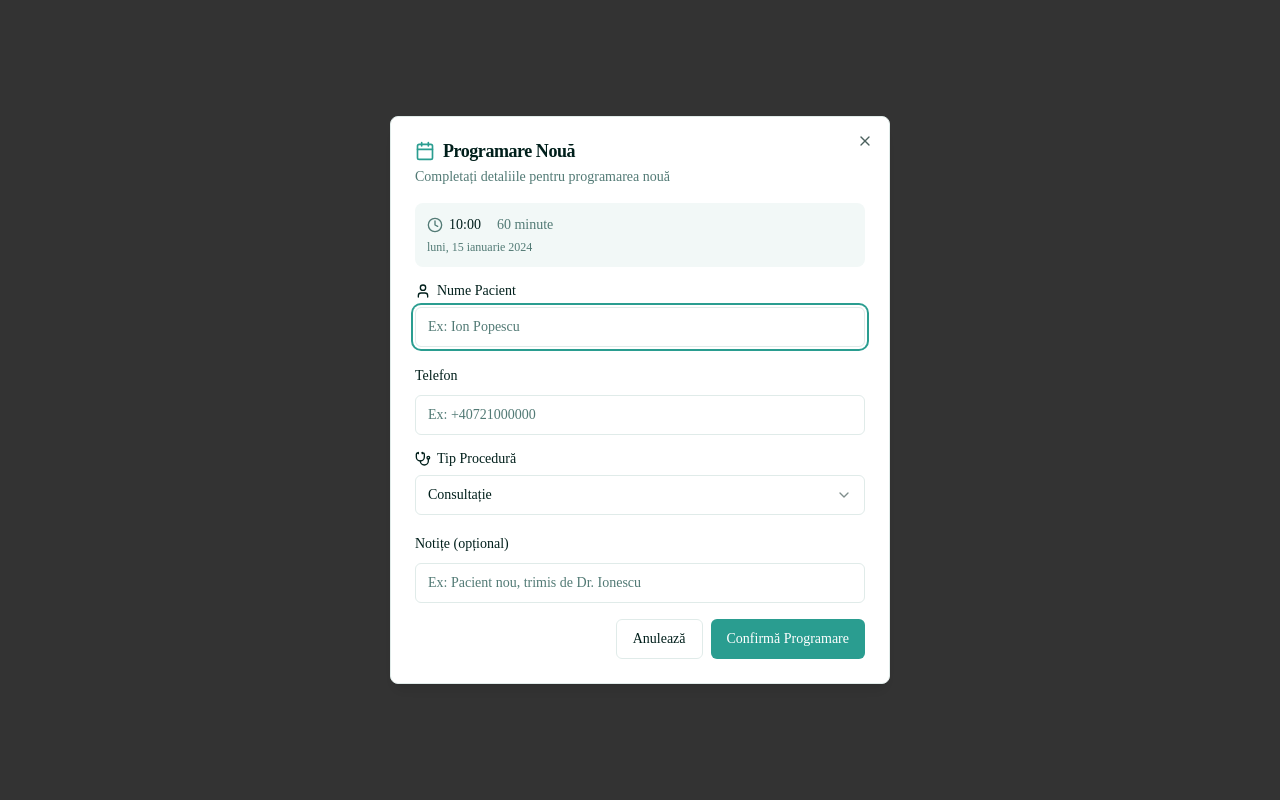
BookingModal › should show validation error when name is empty
In the field labelled "Telefon": (640, 415) x1=415 y1=395 x2=865 y2=435, type "+40123456789"
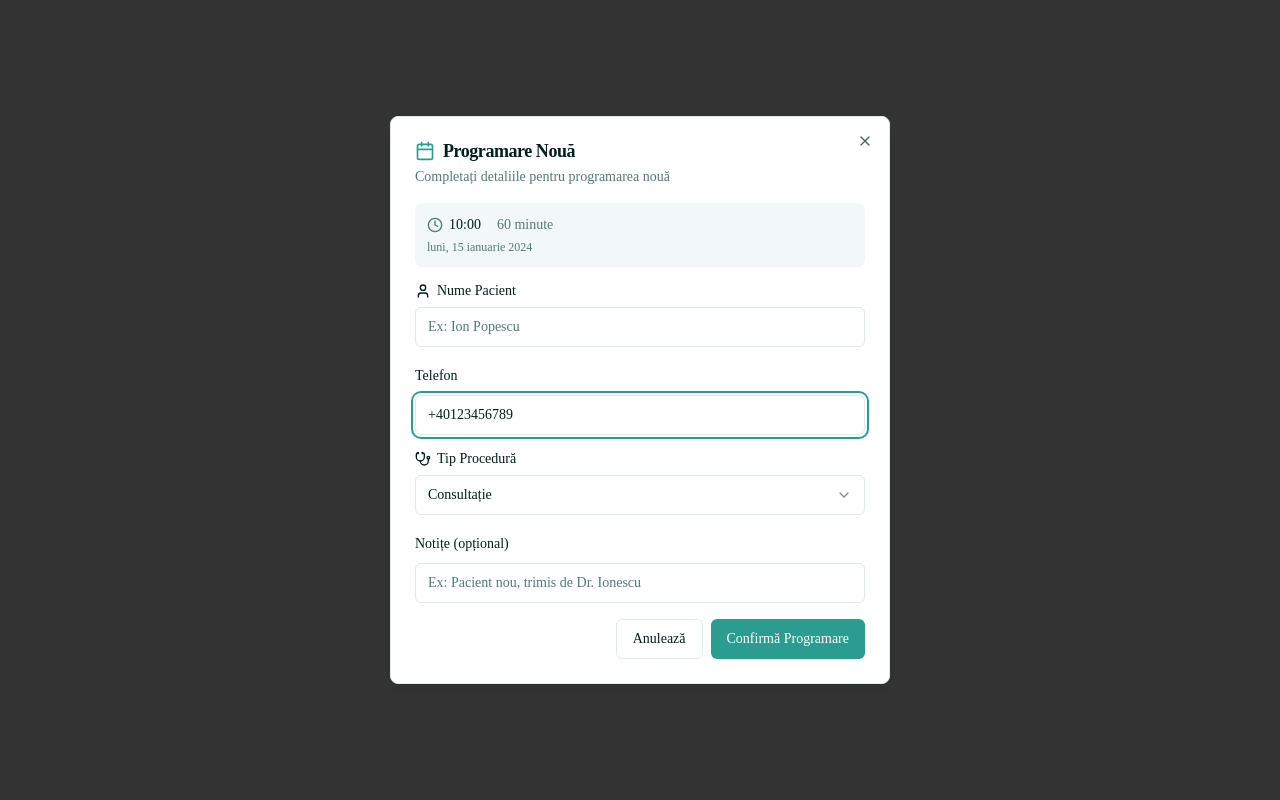
Click the button "Confirmă Programare": (788, 639) x1=710 y1=619 x2=865 y2=659
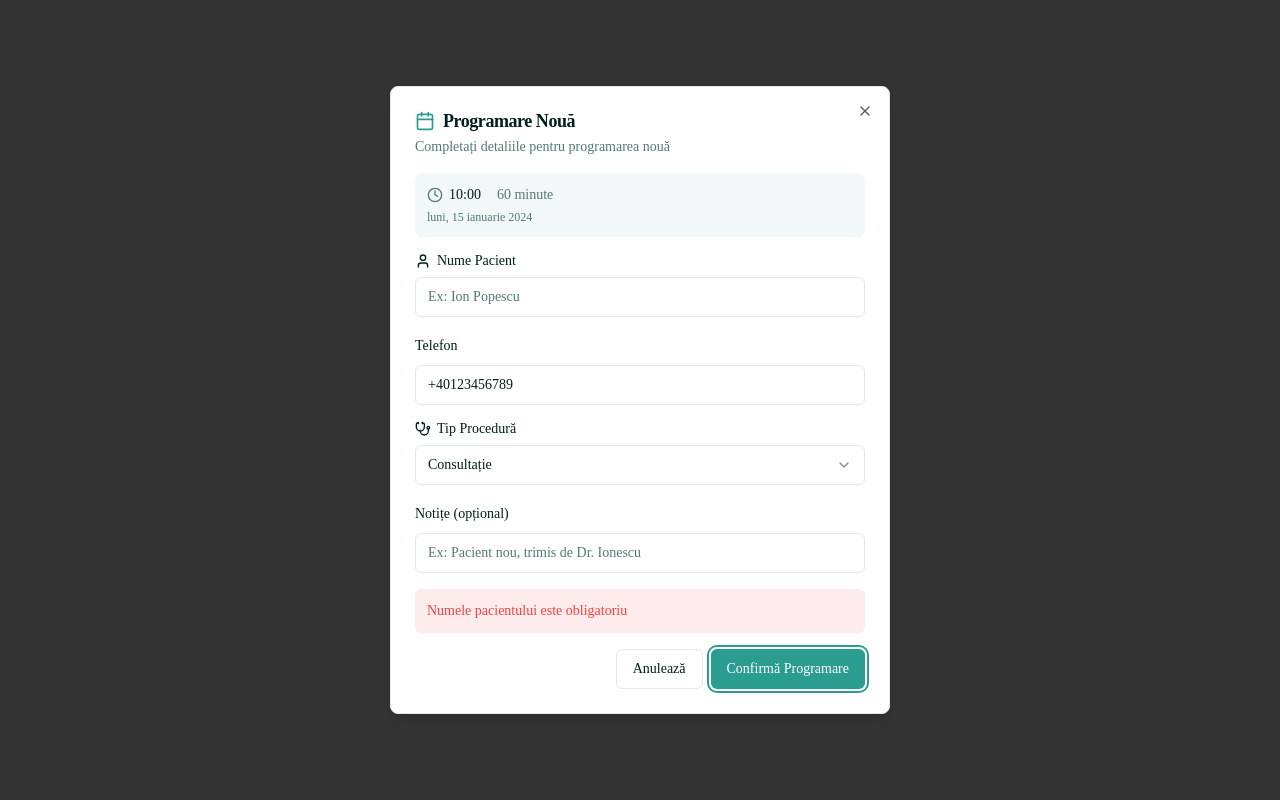
Check: the text "Numele pacientului este obligatoriu" is shown, box x1=415 y1=589 x2=865 y2=633
